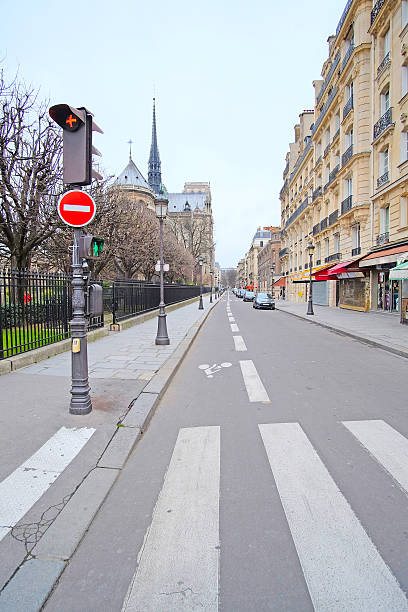Girilmez: (58, 187, 94, 227)
